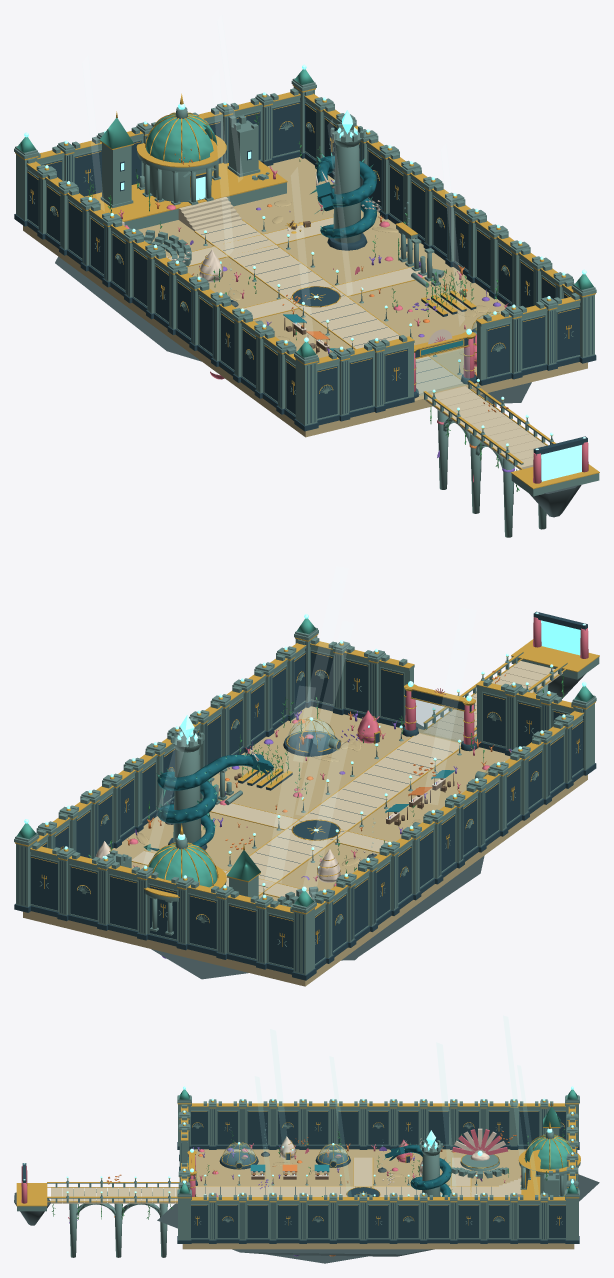
Rendered from sunken_kingdom_lite.glb.
The picture shows the model from 3 angles, top to bottom: view 1: azimuth 30°, elevation 25°; view 2: azimuth 150°, elevation 25°; view 3: azimuth 270°, elevation 25°; orthographic projection. The views are drawn at different scales.
Parts seen in each view (by area): view 1: Seabed_Top_Sand_Seabed, Wall_Left_Stone_Deep, Path_Main_Path_Mosaic, Wall_Left_Stone_Sunken, Wall_Right_Stone_Deep, Wall_Right_Stone_Sunken, Palace_Grand_Stone_Sunken, Wall_Front_R_Stone_Deep, Palace_Grand_Gold_Trim, Wall_Front_L_Stone_Deep, Bridge_Reef_Stone_Sunken, Wall_Back_Stone_Deep (+22 smaller); view 2: Seabed_Top_Sand_Seabed, Wall_Left_Stone_Deep, Wall_Back_Stone_Deep, Wall_Left_Stone_Sunken, Path_Main_Path_Mosaic, Wall_Right_Stone_Deep, Wall_Right_Stone_Sunken, Wall_Back_Stone_Sunken, Wall_Front_R_Stone_Deep, Wall_Corner_Towers_Stone_Sunken, Statue_SeaDragon_Dragon_Scale, Wall_Front_R_Stone_Sunken (+25 smaller); view 3: Wall_Right_Stone_Deep, Wall_Left_Stone_Deep, Seabed_Top_Sand_Seabed, Wall_Right_Stone_Sunken, Wall_Left_Stone_Sunken, Path_Main_Path_Mosaic, Bridge_Reef_Stone_Sunken, Island_Reef_Reef_Rock, Bridge_Reef_Path_Mosaic, Wall_Corner_Towers_Stone_Sunken, Wall_Right_Gold_Trim, Wall_Left_Gold_Trim (+18 smaller).
Part boxes in pixels (left/top/right/bottom): Seabed_Top_Sand_Seabed: left=23, top=157, right=587, bottom=437; Wall_Left_Stone_Deep: left=27, top=171, right=295, bottom=420; Path_Main_Path_Mosaic: left=168, top=197, right=463, bottom=394; Wall_Left_Stone_Sunken: left=26, top=158, right=296, bottom=415; Wall_Right_Stone_Deep: left=305, top=103, right=569, bottom=307; Wall_Right_Stone_Sunken: left=304, top=90, right=573, bottom=307; Palace_Grand_Stone_Sunken: left=100, top=107, right=286, bottom=229; Wall_Front_R_Stone_Deep: left=476, top=307, right=580, bottom=385; Palace_Grand_Gold_Trim: left=84, top=93, right=287, bottom=221; Wall_Front_L_Stone_Deep: left=317, top=349, right=414, bottom=425; Bridge_Reef_Stone_Sunken: left=423, top=381, right=599, bottom=537; Wall_Back_Stone_Deep: left=41, top=102, right=300, bottom=196; Seabed_Top_Sand_Seabed: left=23, top=706, right=587, bottom=986; Wall_Left_Stone_Deep: left=315, top=720, right=583, bottom=969; Wall_Back_Stone_Deep: left=30, top=856, right=293, bottom=974; Wall_Left_Stone_Sunken: left=314, top=707, right=583, bottom=965; Path_Main_Path_Mosaic: left=131, top=733, right=460, bottom=899; Wall_Right_Stone_Deep: left=41, top=653, right=305, bottom=858; Wall_Right_Stone_Sunken: left=36, top=639, right=306, bottom=858; Wall_Back_Stone_Sunken: left=30, top=842, right=293, bottom=969; Wall_Front_R_Stone_Deep: left=310, top=651, right=404, bottom=728; Wall_Corner_Towers_Stone_Sunken: left=14, top=628, right=596, bottom=974; Statue_SeaDragon_Dragon_Scale: left=150, top=753, right=273, bottom=851; Wall_Front_R_Stone_Sunken: left=310, top=637, right=414, bottom=723; Wall_Right_Stone_Deep: left=191, top=1203, right=565, bottom=1243; Wall_Left_Stone_Deep: left=191, top=1109, right=565, bottom=1149; Seabed_Top_Sand_Seabed: left=182, top=1149, right=574, bottom=1249; Wall_Right_Stone_Sunken: left=191, top=1193, right=565, bottom=1240; Wall_Left_Stone_Sunken: left=191, top=1099, right=565, bottom=1146; Path_Main_Path_Mosaic: left=195, top=1157, right=521, bottom=1196; Bridge_Reef_Stone_Sunken: left=17, top=1179, right=178, bottom=1257; Island_Reef_Reef_Rock: left=157, top=1174, right=599, bottom=1263; Bridge_Reef_Path_Mosaic: left=51, top=1187, right=178, bottom=1203; Wall_Corner_Towers_Stone_Sunken: left=177, top=1095, right=579, bottom=1240; Wall_Right_Gold_Trim: left=191, top=1194, right=565, bottom=1225; Wall_Left_Gold_Trim: left=191, top=1100, right=565, bottom=1131.
Bounding box in the file's own units: 66.64 × 58.5 × 156.
